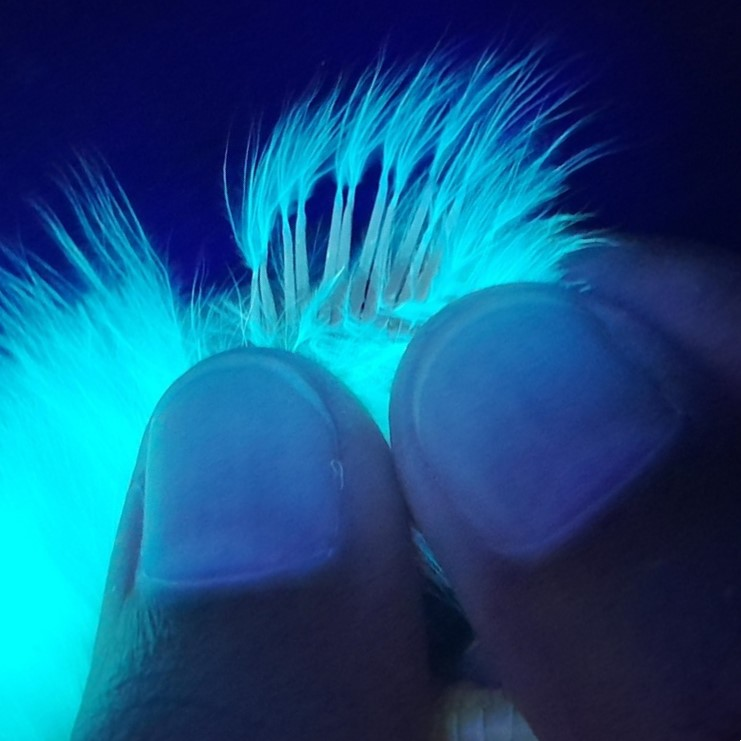male: (236, 160, 501, 363)
